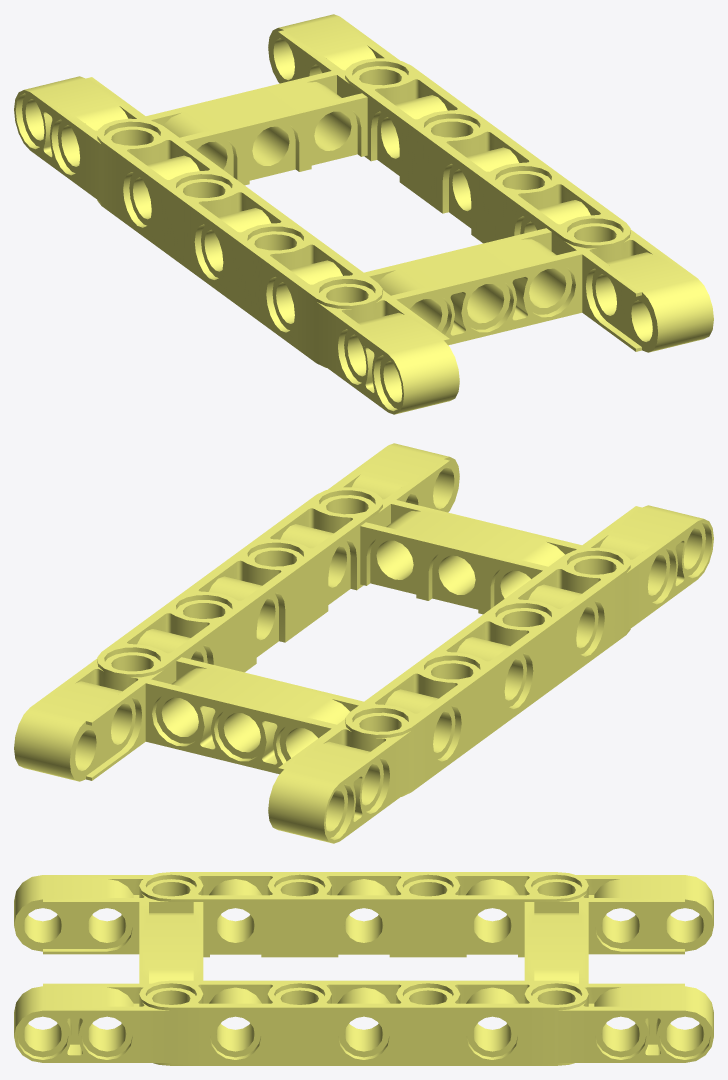
3 renders of one model, top to bottom at view 1: azimuth 30°, elevation 25°; view 2: azimuth 150°, elevation 25°; view 3: azimuth 270°, elevation 25°, orthographic. The views are drawn at different scales.
Parts seen in each view (by area): view 1: 64178.dat; view 2: 64178.dat; view 3: 64178.dat.
Part boxes in pixels (x1=…): 64178.dat: x1=14, y1=14, x2=713, y2=414; 64178.dat: x1=14, y1=443, x2=713, y2=843; 64178.dat: x1=14, y1=872, x2=713, y2=1065.
Size of the model in its own units: 0.04 by 0.008 by 0.0872.
